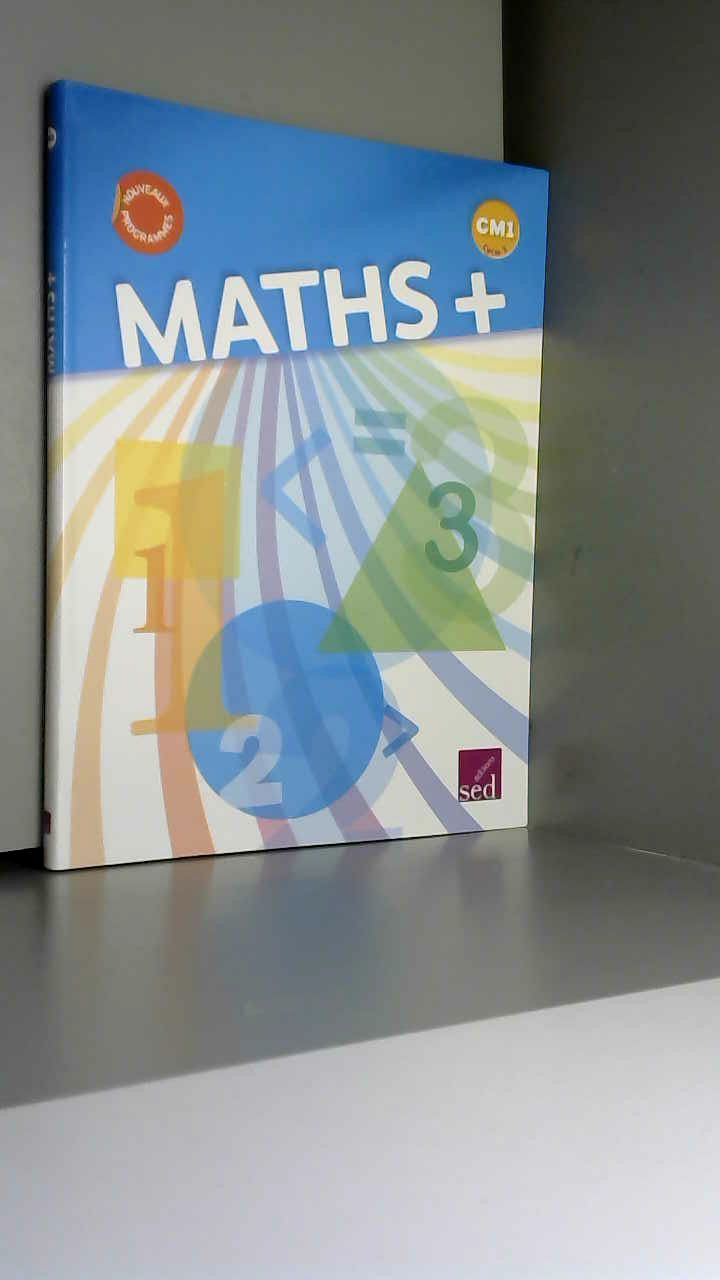book: (10, 0, 720, 940)
